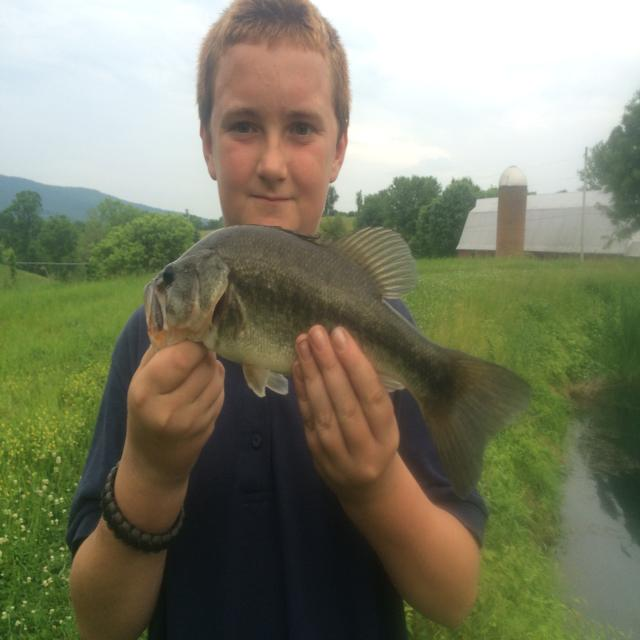Bass - Largemouth: (144, 225, 531, 497)
